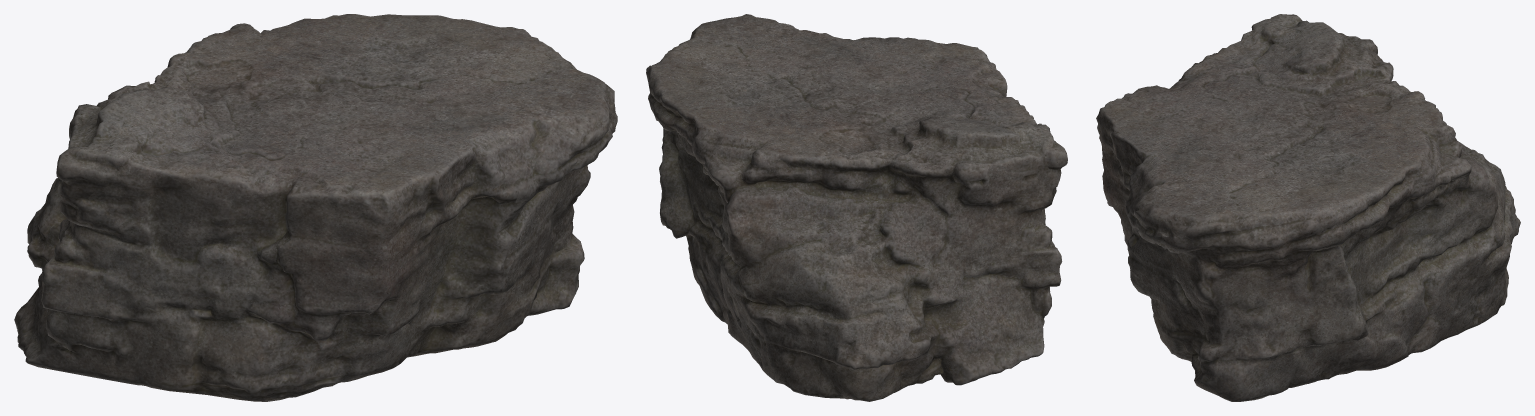
3 renders of one model, left to right at view 1: azimuth 30°, elevation 25°; view 2: azimuth 150°, elevation 25°; view 3: azimuth 270°, elevation 25°, orthographic. The views are drawn at different scales.
Parts seen in each view (by area): view 1: SM_Rock_05; view 2: SM_Rock_05; view 3: SM_Rock_05.
Boxes of the visible parts, x1,y1,x2,y2 form: SM_Rock_05: (14,14,617,401); SM_Rock_05: (646,14,1067,401); SM_Rock_05: (1096,14,1520,401).
Size of the model in its own units: 3.68 by 1.9 by 3.16.
Materials: 1 (1 with a texture image).
